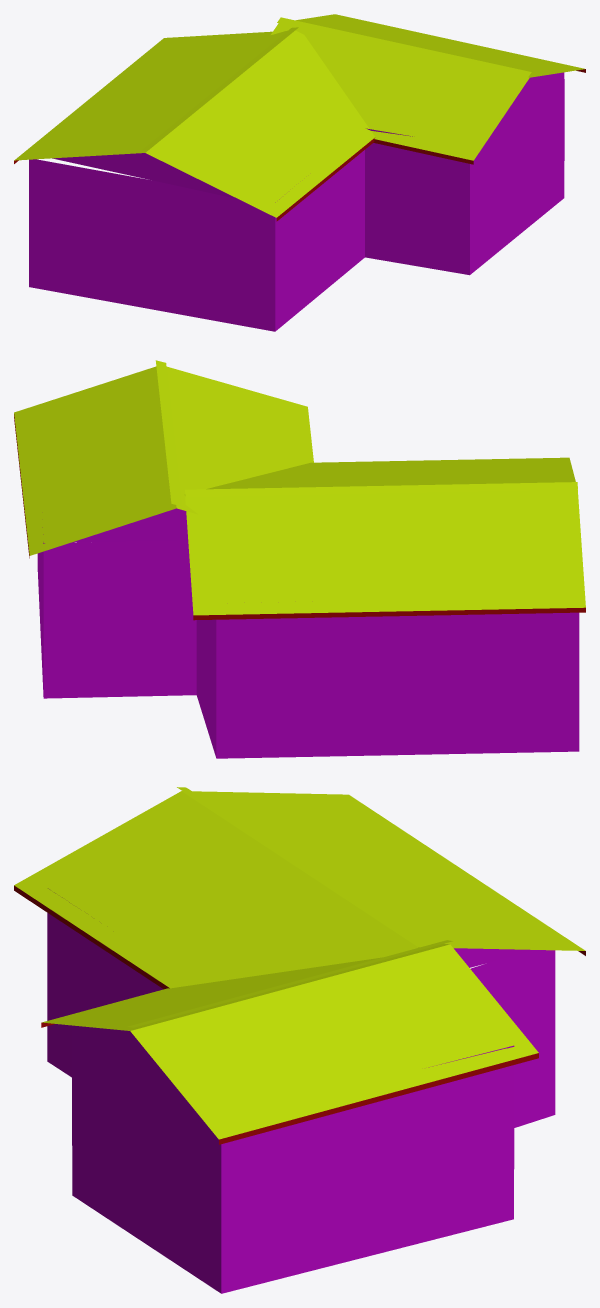
The model's file is bgj_124.glb.
3 renders of one model, top to bottom at view 1: azimuth 30°, elevation 25°; view 2: azimuth 150°, elevation 25°; view 3: azimuth 270°, elevation 25°, orthographic. The views are drawn at different scales.
Parts seen in each view (by area): view 1: bgj_124; view 2: bgj_124; view 3: bgj_124.
Part boxes in pixels (x1,y1,x2,y2): bgj_124: (14, 14, 585, 331); bgj_124: (14, 360, 585, 758); bgj_124: (14, 787, 585, 1293).
Bounding box in the file's own units: 16.72 × 5.06 × 11.75.
